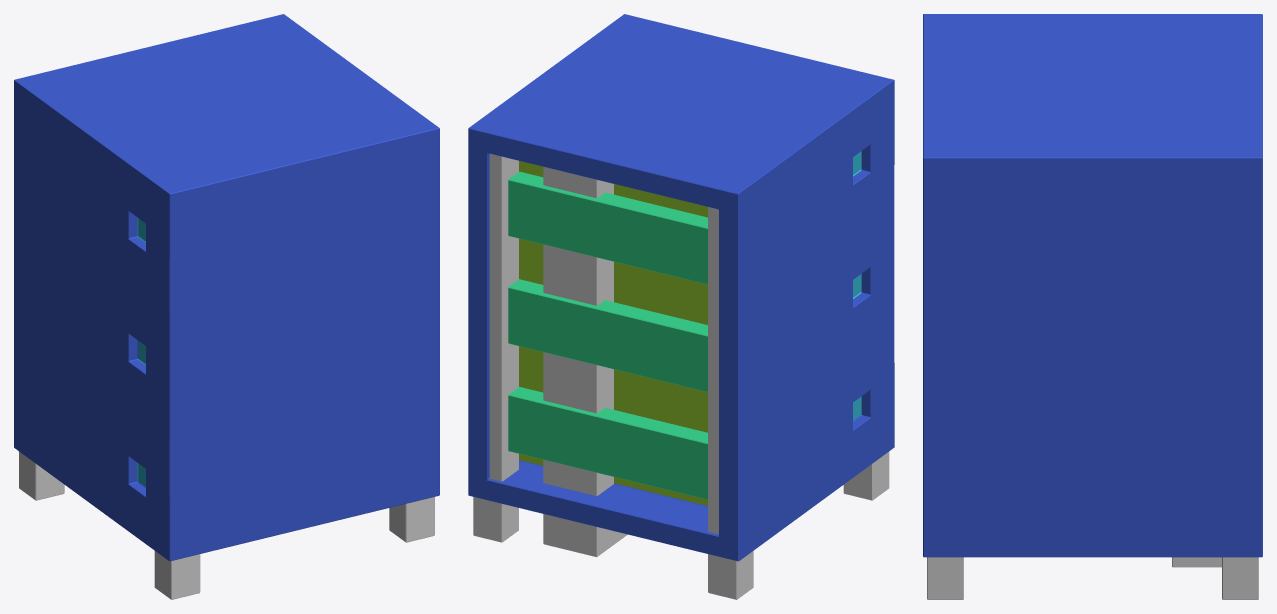
Rendered from Building_1.fbx.
The picture shows the model from 3 angles, left to right: view 1: azimuth 30°, elevation 25°; view 2: azimuth 150°, elevation 25°; view 3: azimuth 270°, elevation 25°; orthographic projection. The views are drawn at different scales.
Visible parts, largest first — view 1: Cube.011; view 2: Cube.011; view 3: Cube.011.
Part boxes in pixels (<box>): Cube.011: <box>14,14,439,599</box>; Cube.011: <box>468,14,894,599</box>; Cube.011: <box>923,14,1262,599</box>.
Bounding box in the file's own units: 4.09 × 4.09 × 5.9.
